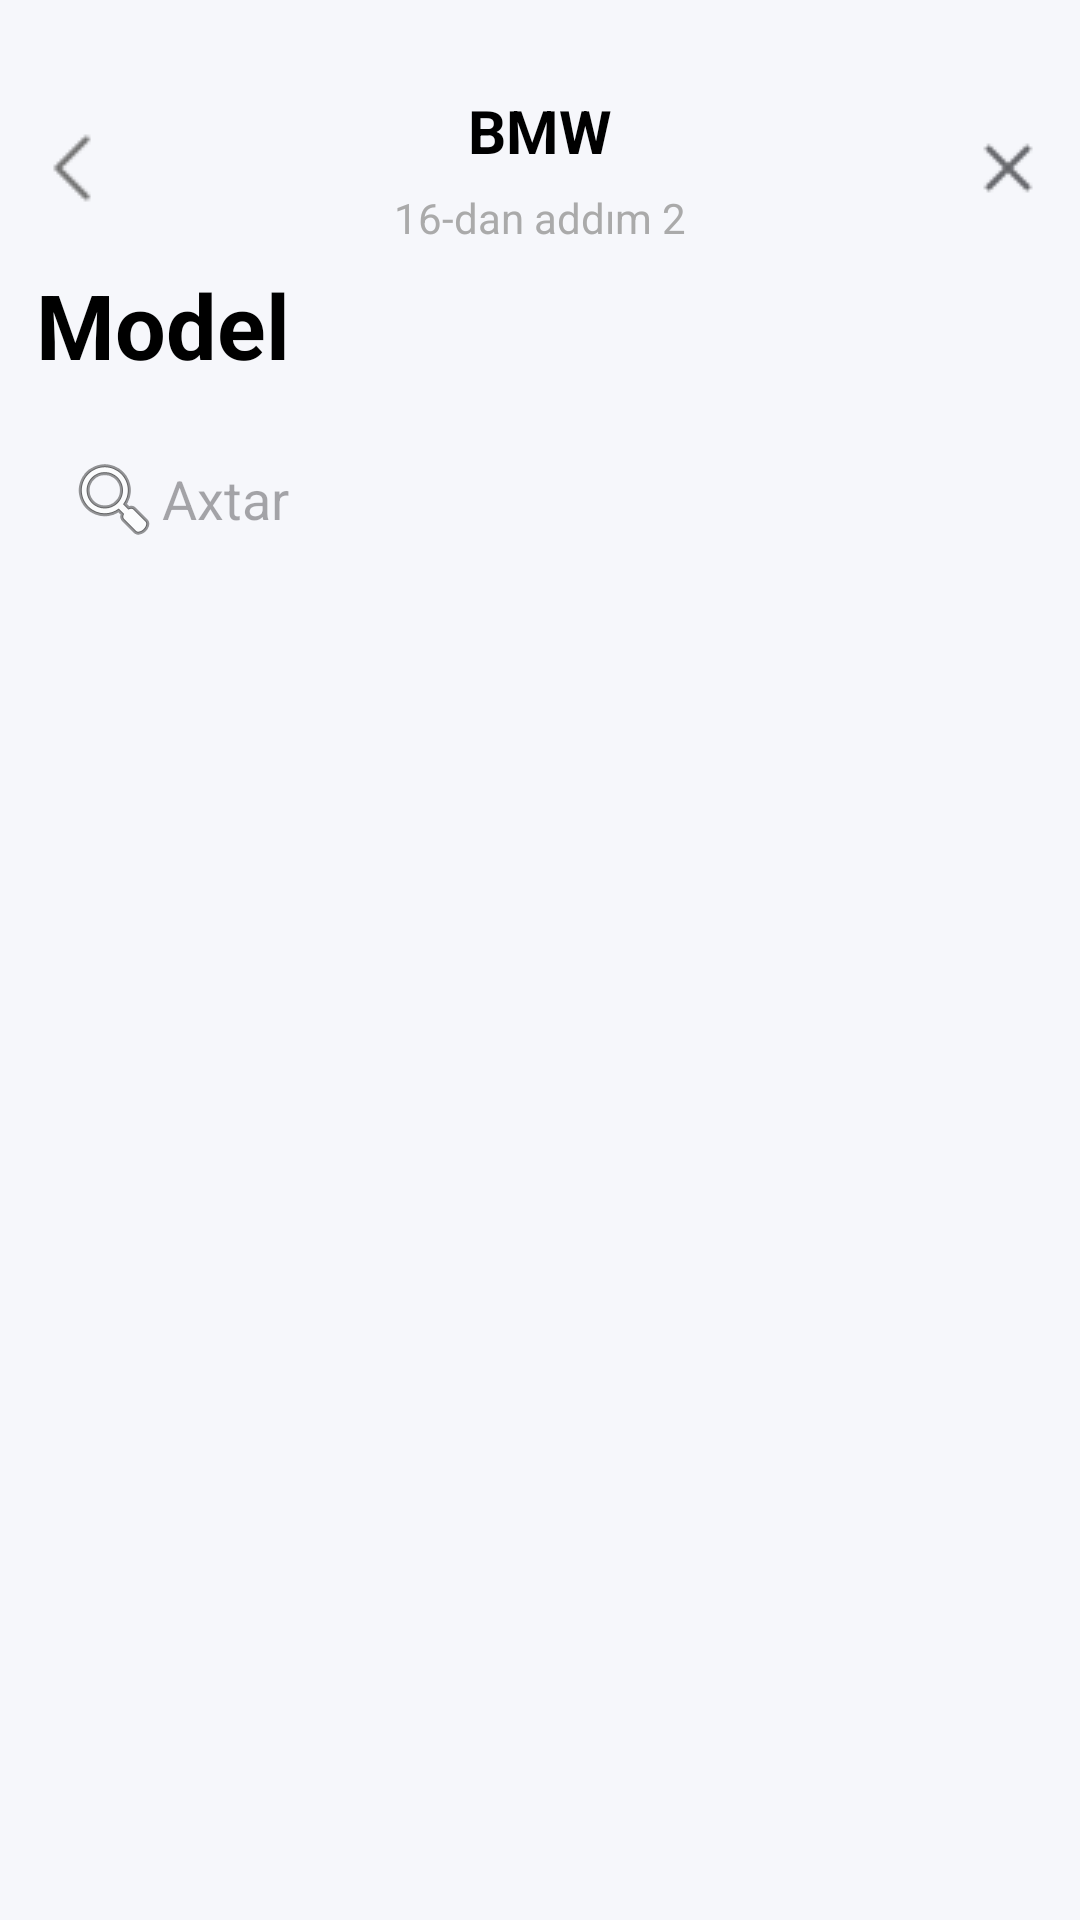

Screen size 1080px x 1920px. Icon name, then its box in pixels as {"left": x1, "top": y1, "right": x2, "bottom": y2}:
back: {"left": 53, "top": 135, "right": 91, "bottom": 201}
cancel: {"left": 984, "top": 144, "right": 1032, "bottom": 192}
